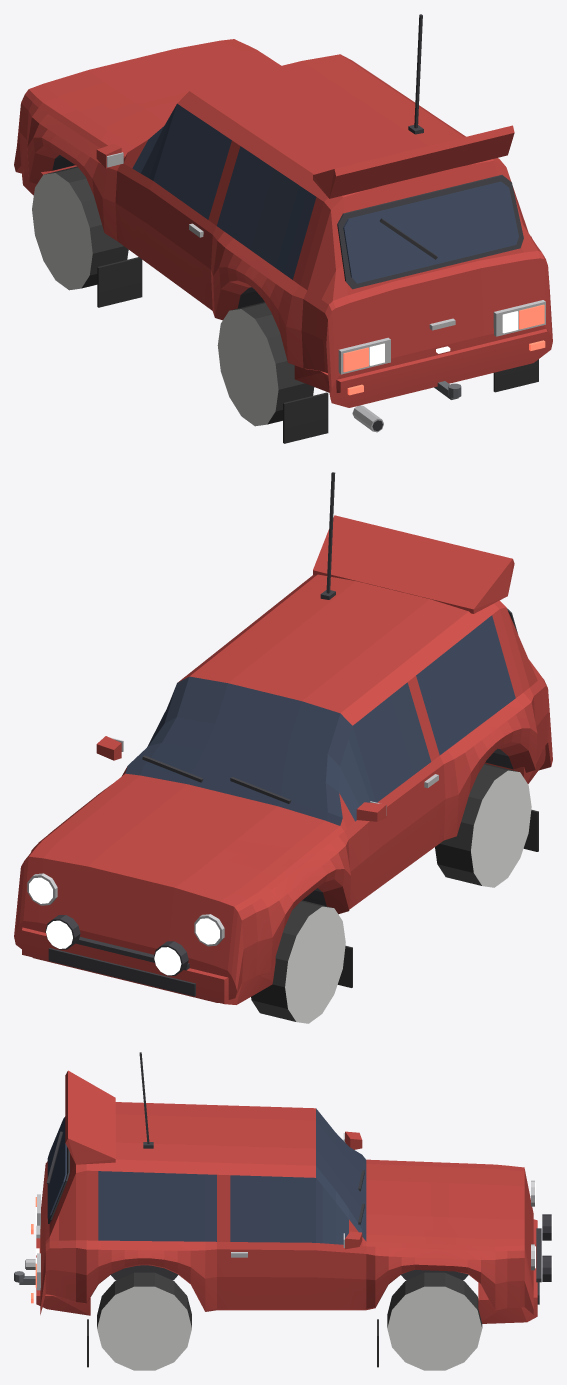
File: niva.glb
The picture shows the model from 3 angles, top to bottom: view 1: azimuth 30°, elevation 25°; view 2: azimuth 150°, elevation 25°; view 3: azimuth 270°, elevation 25°; orthographic projection. The views are drawn at different scales.
Visible parts, largest first — view 1: Body, Wheel_FL, Wheel_RL, Spoiler, MudFlaps, Bumper_R, Antenna, Mirror_L; view 2: Body, Spoiler, Wheel_RL, Wheel_FL, Bumper_F, AuxLamps, MudFlaps; view 3: Body, Wheel_RR, Wheel_FR, Spoiler, Bumper_F, AuxLamps, Bumper_R, Wheel_RL.
Part boxes in pixels (x1=…): Body: x1=14, y1=39, x2=552, y2=407; Wheel_FL: x1=32, y1=166, x2=128, y2=290; Wheel_RL: x1=217, y1=302, x2=314, y2=426; Spoiler: x1=313, y1=125, x2=514, y2=198; MudFlaps: x1=97, y1=257, x2=538, y2=443; Bumper_R: x1=294, y1=329, x2=547, y2=392; Antenna: x1=408, y1=14, x2=423, y2=134; Mirror_L: x1=96, y1=144, x2=123, y2=168; Body: x1=14, y1=574, x2=552, y2=1002; Spoiler: x1=313, y1=515, x2=514, y2=613; Wheel_RL: x1=435, y1=763, x2=531, y2=887; Wheel_FL: x1=251, y1=900, x2=345, y2=1023; Bumper_F: x1=22, y1=927, x2=275, y2=1004; AuxLamps: x1=45, y1=915, x2=189, y2=976; MudFlaps: x1=337, y1=809, x2=538, y2=987; Body: x1=14, y1=1102, x2=535, y2=1314; Wheel_RR: x1=97, y1=1272, x2=191, y2=1370; Wheel_FR: x1=387, y1=1272, x2=482, y2=1370; Spoiler: x1=65, y1=1070, x2=115, y2=1164; Bumper_F: x1=478, y1=1219, x2=539, y2=1323; AuxLamps: x1=536, y1=1214, x2=552, y2=1282; Bumper_R: x1=36, y1=1238, x2=90, y2=1315; Wheel_RL: x1=111, y1=1265, x2=177, y2=1280.
Bounding box in the file's own units: 1.92 × 2.4 × 4.09.
